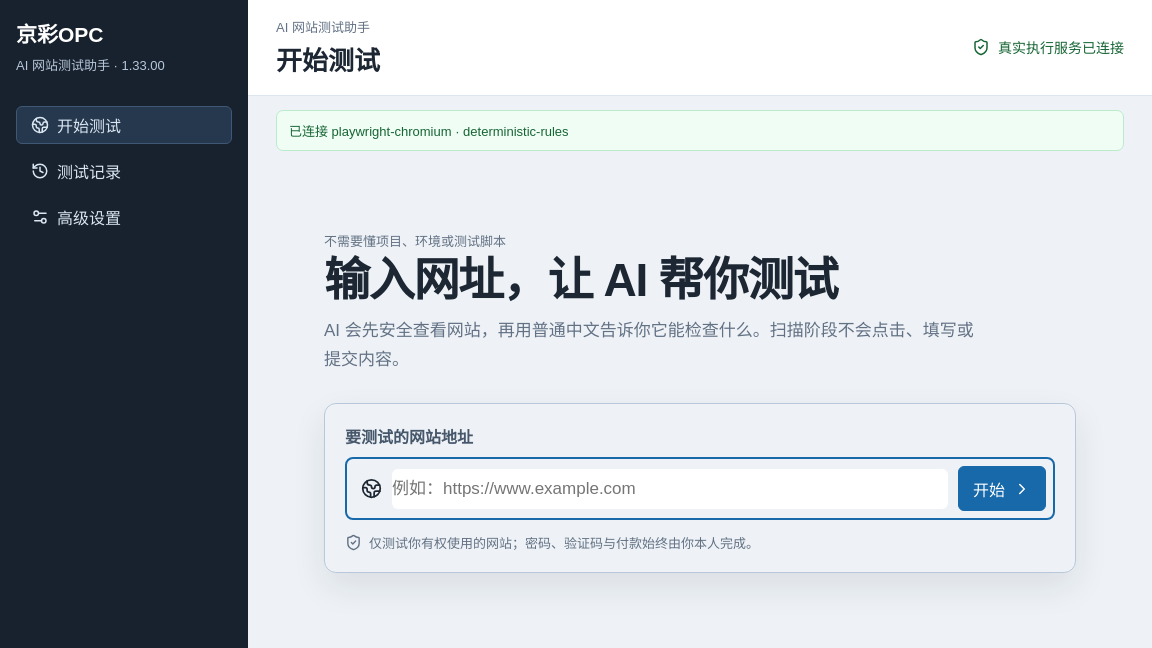
Test case: App › uses a goal-first default form and keeps effective optional fields in advanced settings
Expected: the text "真实执行服务已连接" is shown, [998,37,1124,57]
Click the button "高级设置".
click(124, 217)  # box [16,198,232,236]
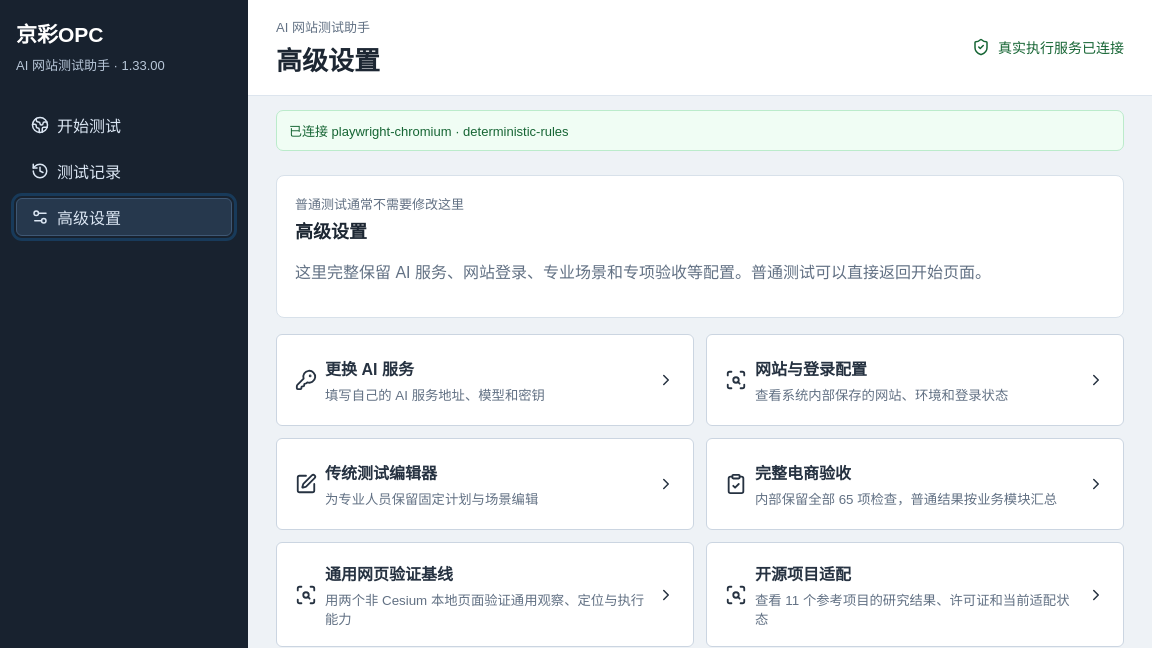
Click the button "传统测试编辑器 为专业人员保留固定计划与场景编辑".
click(381, 474)  # box [276,438,694,530]
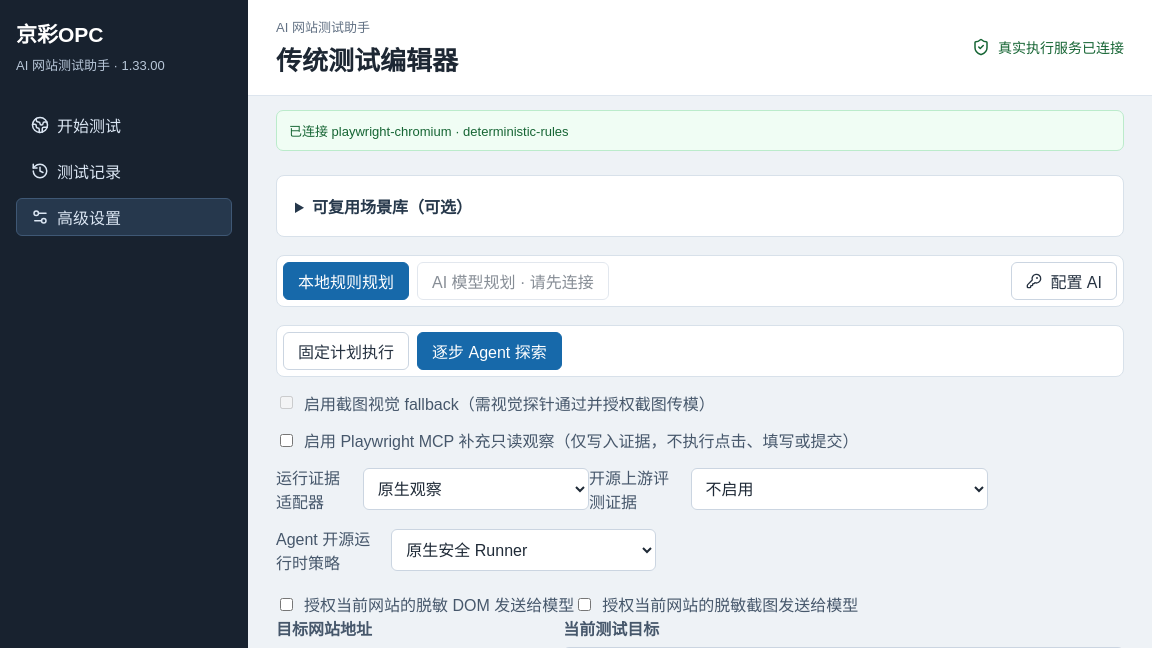
Click the button "固定计划执行".
click(346, 351)  # box [283,332,409,370]
(page scrolled)
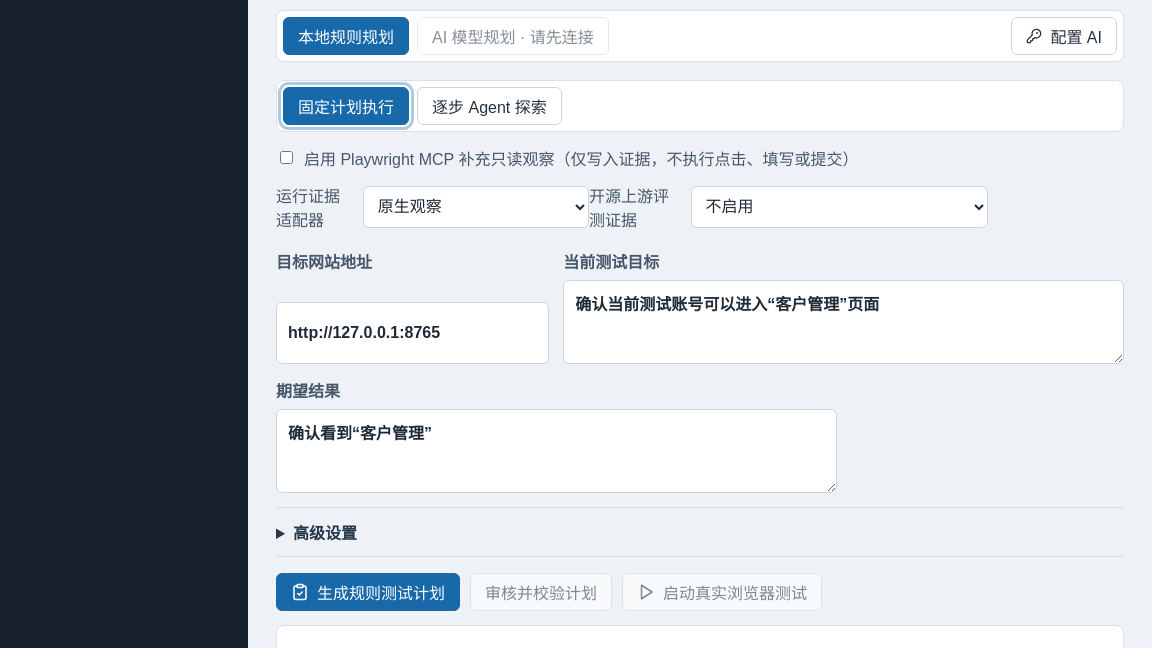
Now the field labelled "目标网站地址" is shown, box [276,302,549,364]
Now the text box labelled "当前测试目标" is shown, box [563,280,1124,364]
Now the text box labelled "期望结果" is shown, box [276,408,837,492]
Click the heading "高级设置".
click(325, 533)  # box [293,524,357,542]
(page scrolled)
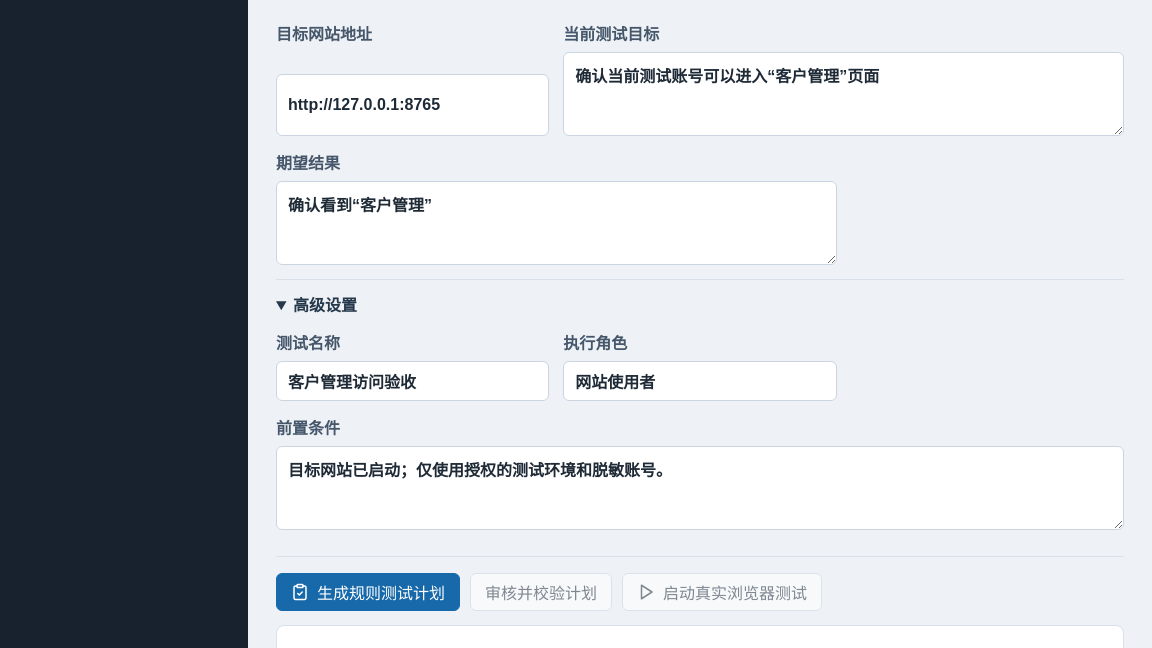
Now the field labelled "执行角色" is shown, box [563,360,837,400]
Now the text box labelled "前置条件" is shown, box [276,446,1124,530]
